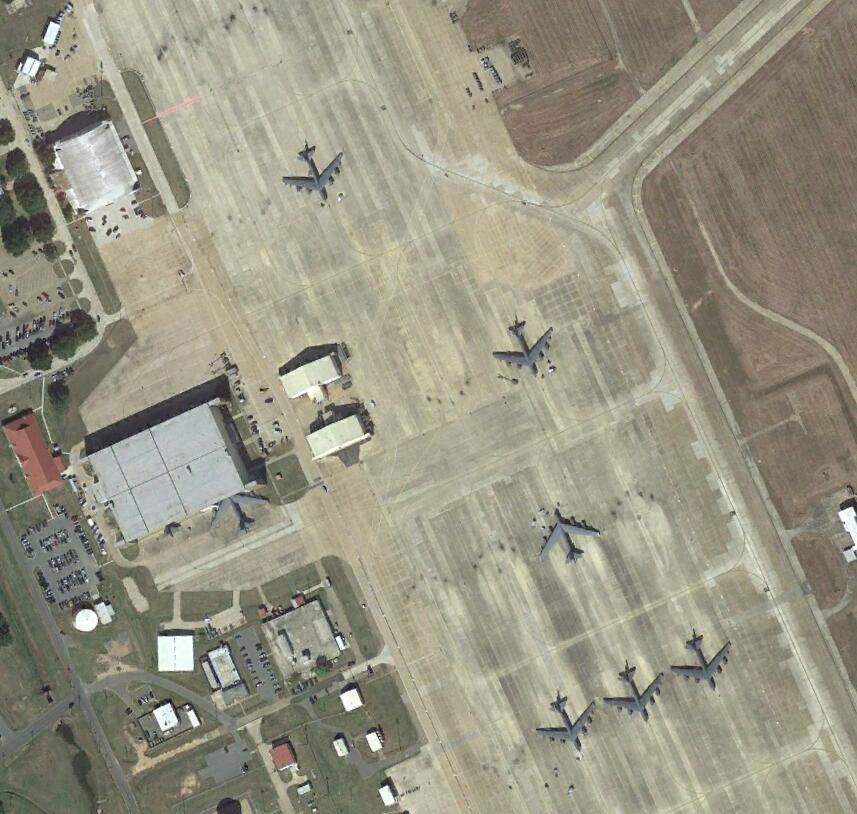A8: (669, 629, 734, 695), (536, 509, 607, 569), (492, 318, 559, 380), (533, 693, 600, 755), (281, 146, 348, 206), (603, 662, 666, 722)
